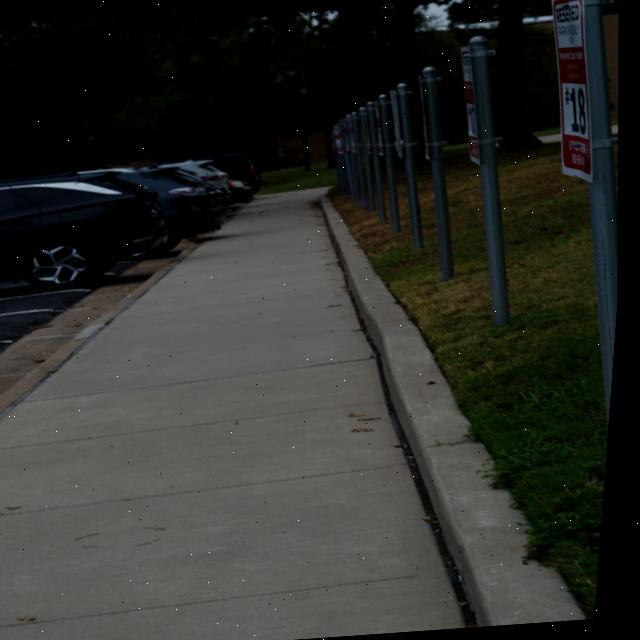Automobile: (0, 168, 171, 287), (120, 167, 231, 248), (161, 159, 236, 198), (200, 153, 267, 193), (231, 178, 257, 202)
Road: (0, 245, 195, 416)
Sidewalk: (0, 193, 474, 640)
